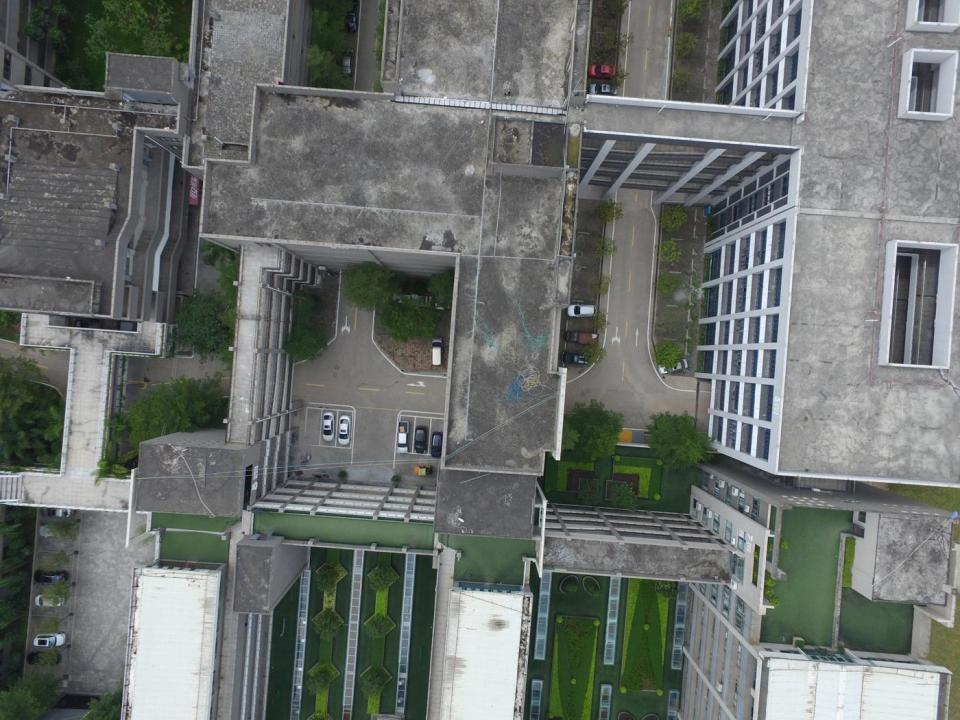car: (34, 567, 67, 587), (23, 649, 59, 666), (37, 525, 73, 541), (31, 631, 67, 647), (565, 301, 597, 319), (33, 593, 66, 610), (319, 410, 336, 442), (38, 504, 74, 518), (337, 415, 353, 446), (561, 351, 590, 368), (658, 358, 688, 374), (587, 63, 615, 78), (586, 82, 618, 95), (430, 430, 444, 458), (414, 424, 427, 454)
truck: (562, 328, 599, 348), (396, 418, 410, 454)
van: (429, 334, 443, 366)
